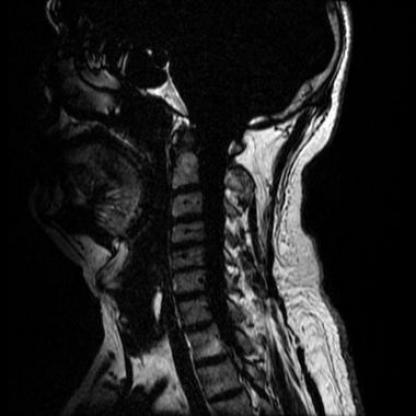Disc Protrusionrotation: (169, 211, 207, 228), (169, 262, 208, 277), (169, 237, 206, 252), (174, 287, 208, 303)
Osteophytesrotation: (169, 211, 207, 228), (169, 262, 208, 277), (169, 237, 206, 252), (174, 287, 208, 303)
